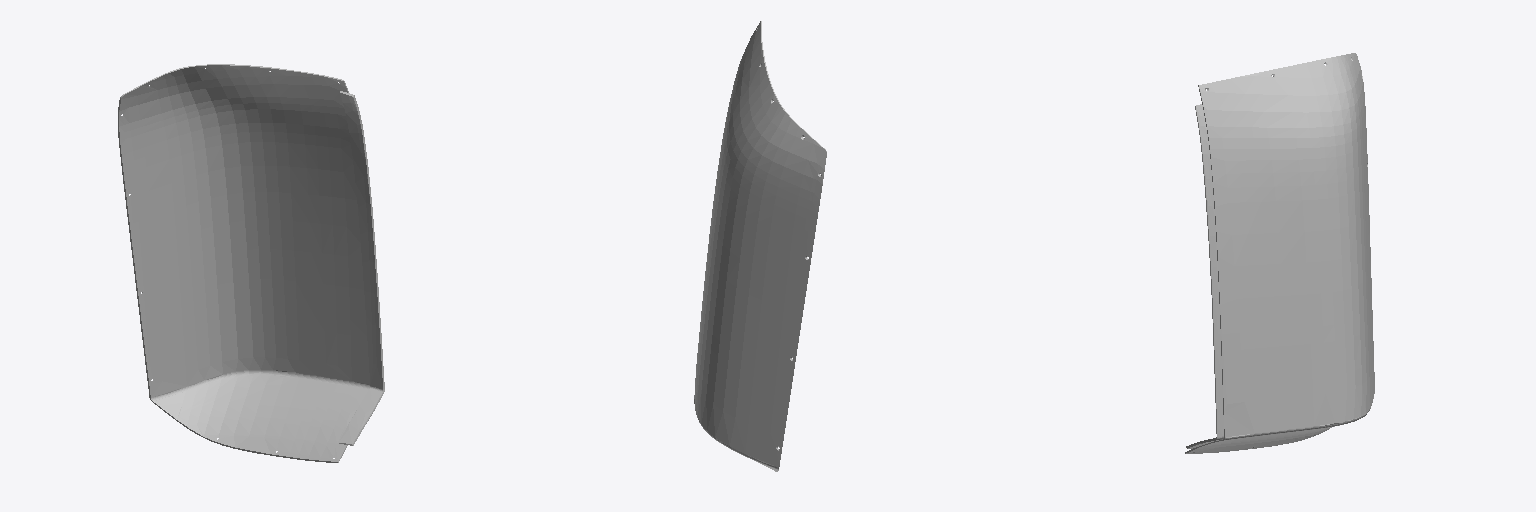
The model's file is Side_cover_bottom_l.obj.
3 renders of one model, left to right at view 1: azimuth 30°, elevation 25°; view 2: azimuth 150°, elevation 25°; view 3: azimuth 270°, elevation 25°, orthographic.
Parts seen in each view (by area): view 1: 4 side cover L bottom; view 2: 4 side cover L bottom; view 3: 4 side cover L bottom.
Part boxes in pixels (bbox=[...]): 4 side cover L bottom: bbox=[118, 64, 384, 462]; 4 side cover L bottom: bbox=[694, 21, 826, 471]; 4 side cover L bottom: bbox=[1185, 53, 1374, 453].
Size of the model in its own units: 48.82 by 92.77 by 41.2.